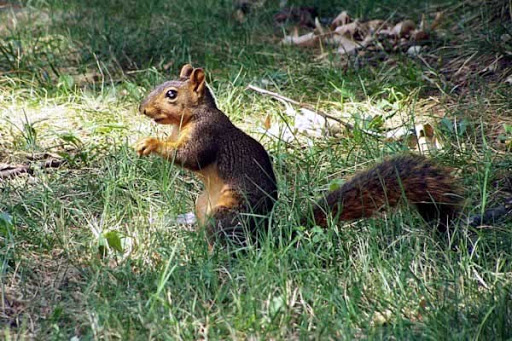Ardilla: (136, 63, 288, 246)
